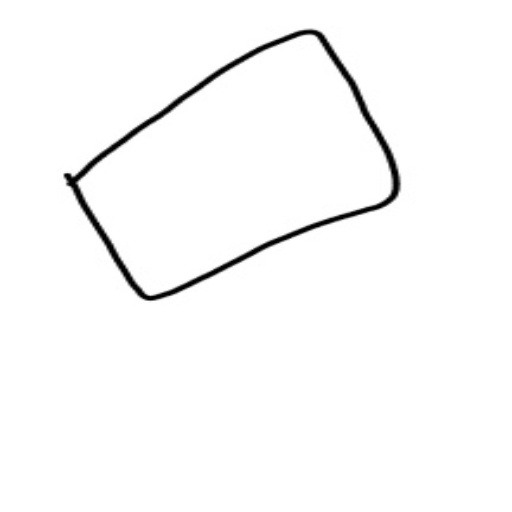square: (61, 26, 409, 303)
